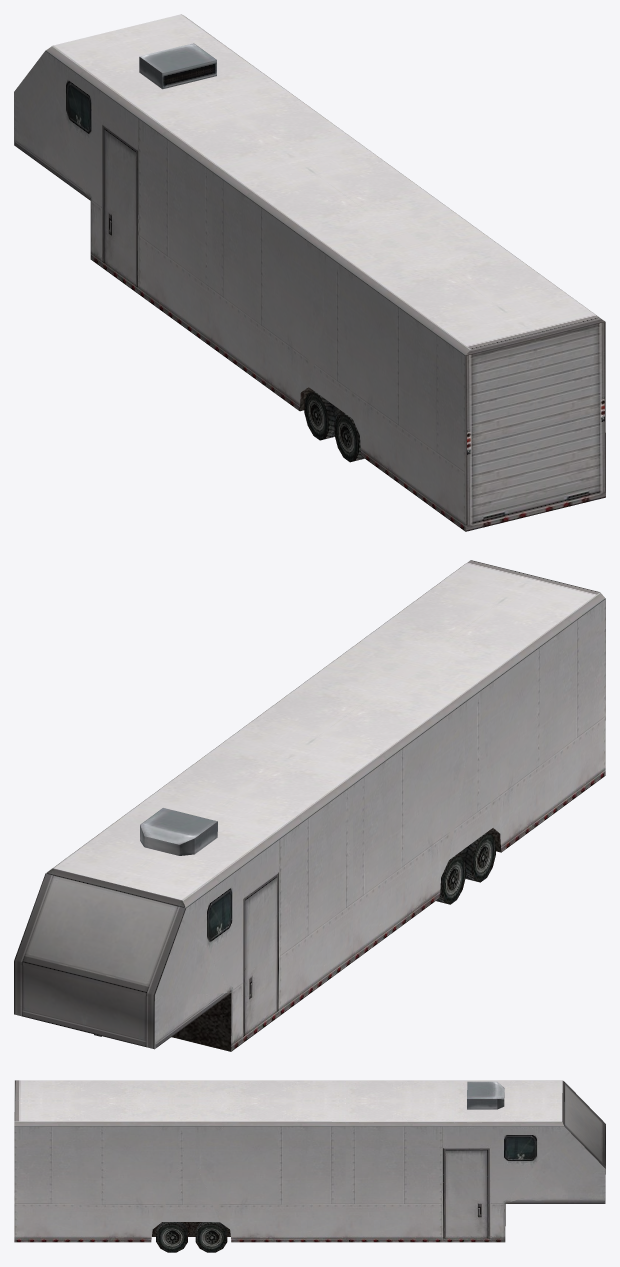
The model's file is p54_50_trailer_box_silver.glb.
3 views of the same model, one above another, from view 1: azimuth 30°, elevation 25°; view 2: azimuth 150°, elevation 25°; view 3: azimuth 270°, elevation 25° (orthographic). The views are drawn at different scales.
Parts seen in each view (by area): view 1: Body; view 2: Body; view 3: Body.
Boxes of the visible parts, box(x1,y1,x2,y2) form: Body: box(14, 14, 605, 531); Body: box(14, 560, 605, 1051); Body: box(14, 1080, 605, 1252).
Size of the model in its own units: 3.05 by 4.37 by 16.75.
Materials: 1 (1 with a texture image).
